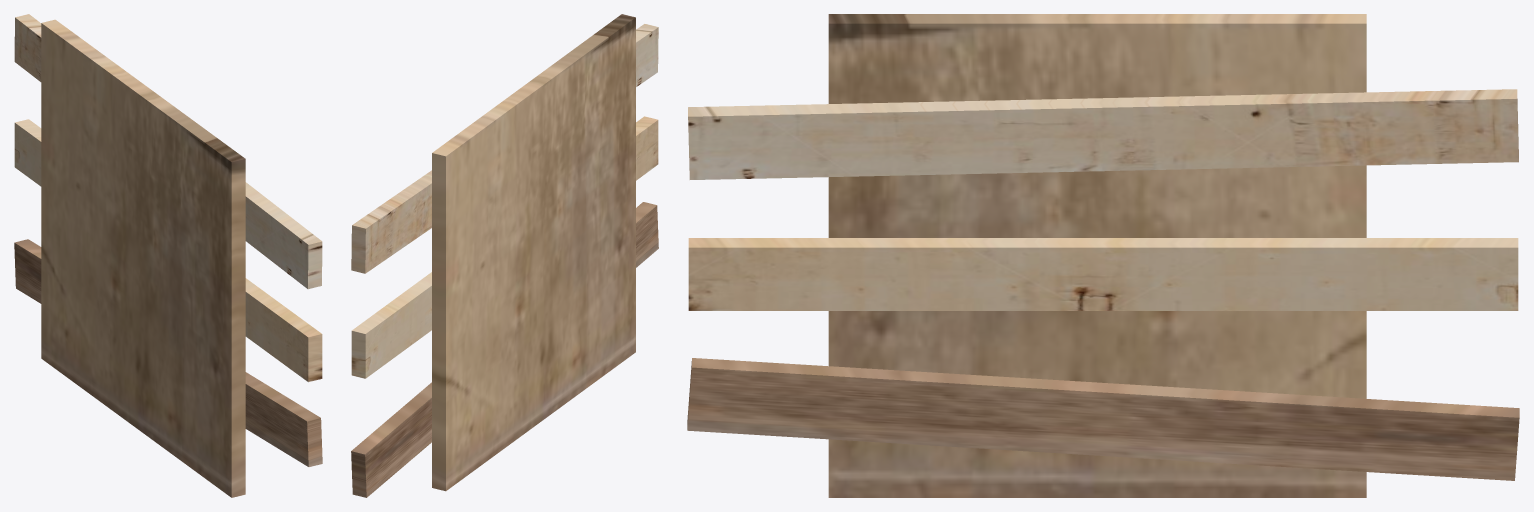
File: boardedwindow1.fbx
3 renders of one model, left to right at view 1: azimuth 30°, elevation 25°; view 2: azimuth 150°, elevation 25°; view 3: azimuth 270°, elevation 25°, orthographic. The views are drawn at different scales.
Parts seen in each view (by area): view 1: Boarded Window 1; view 2: Boarded Window 1; view 3: Boarded Window 1.
Boxes of the visible parts, left/top/right/bottom form: Boarded Window 1: left=14, top=14, right=322, bottom=497; Boarded Window 1: left=351, top=14, right=658, bottom=497; Boarded Window 1: left=687, top=14, right=1519, bottom=497.
Bounding box in the file's own units: 2.61 × 20.46 × 32.54.
